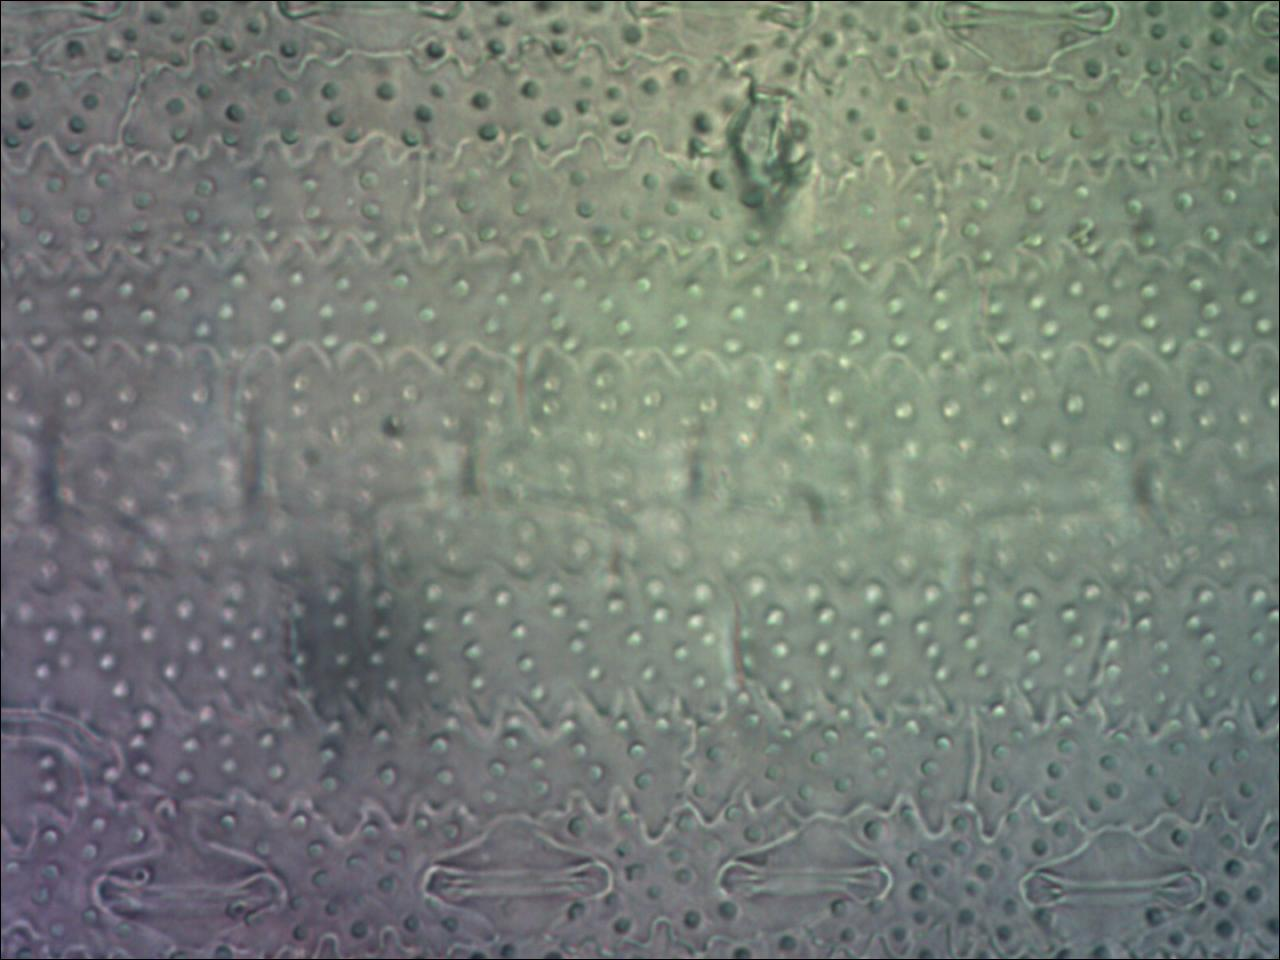stoma: (413, 812, 620, 948), (89, 824, 303, 952), (1015, 821, 1217, 943), (703, 818, 915, 930), (908, 1, 1140, 79), (615, 1, 816, 75), (261, 1, 470, 66), (1, 1, 133, 69)
